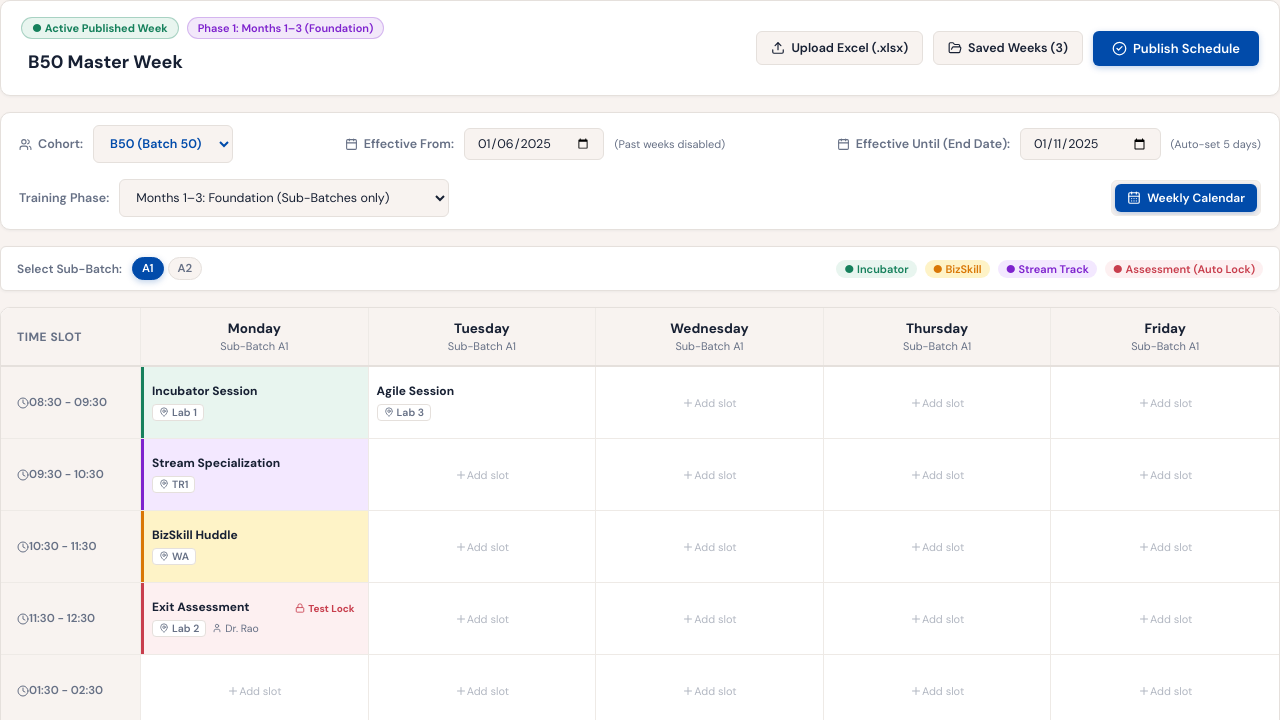
Test: TimetableCalendarView - render & calendar grid › switches the displayed sub-batch when a sub-batch pill is clicked
The width and height of the screenshot is (1280, 720).
Expected: the field showing "B50 Master Week" is shown, [21, 45, 521, 79]
Expected: the text "Incubator Session" is shown, [152, 384, 258, 400]
Click the button "A2". click: [185, 268]
box: [168, 257, 202, 280]
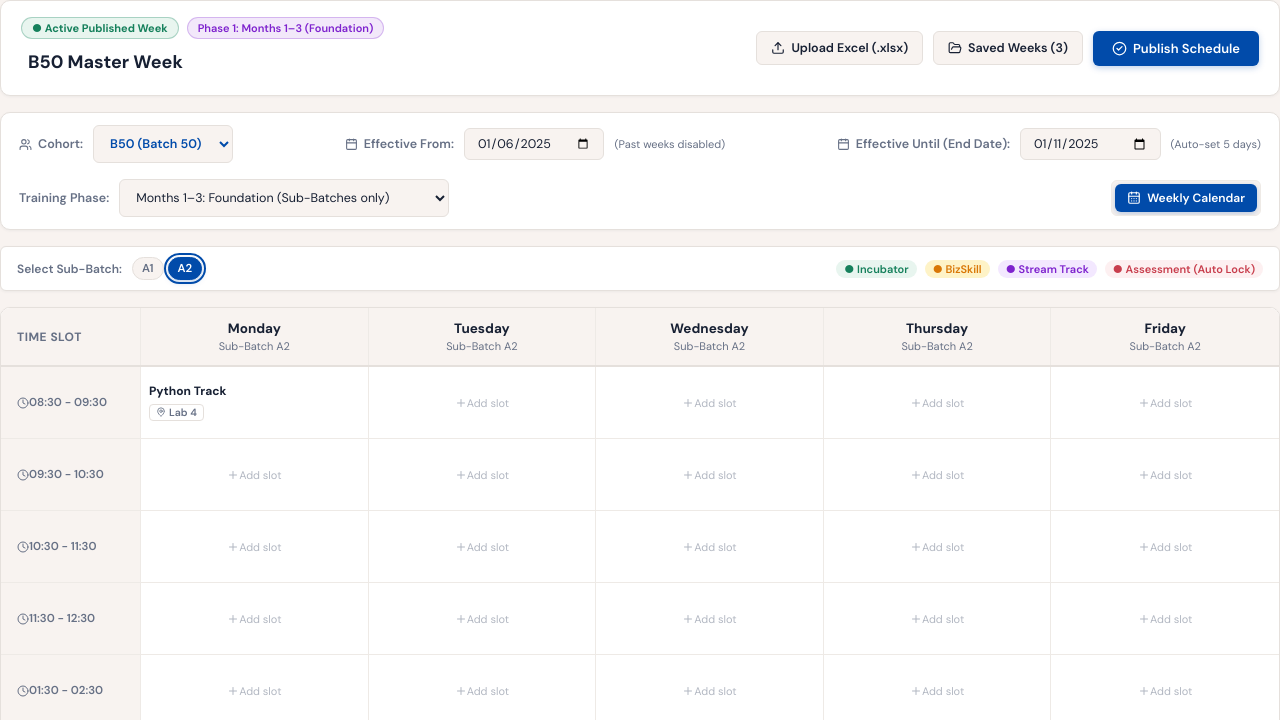
Expected: the text "Python Track" is shown, [149, 384, 226, 400]
Expected: the text "Incubator Session" is gone
